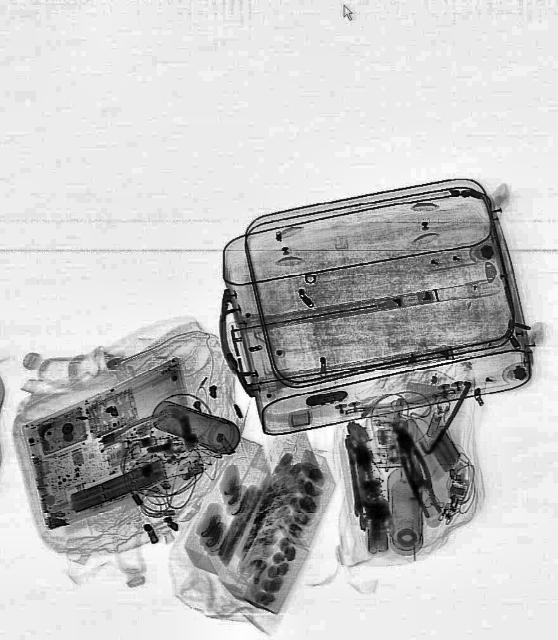Pliers: (390, 428, 446, 522)
